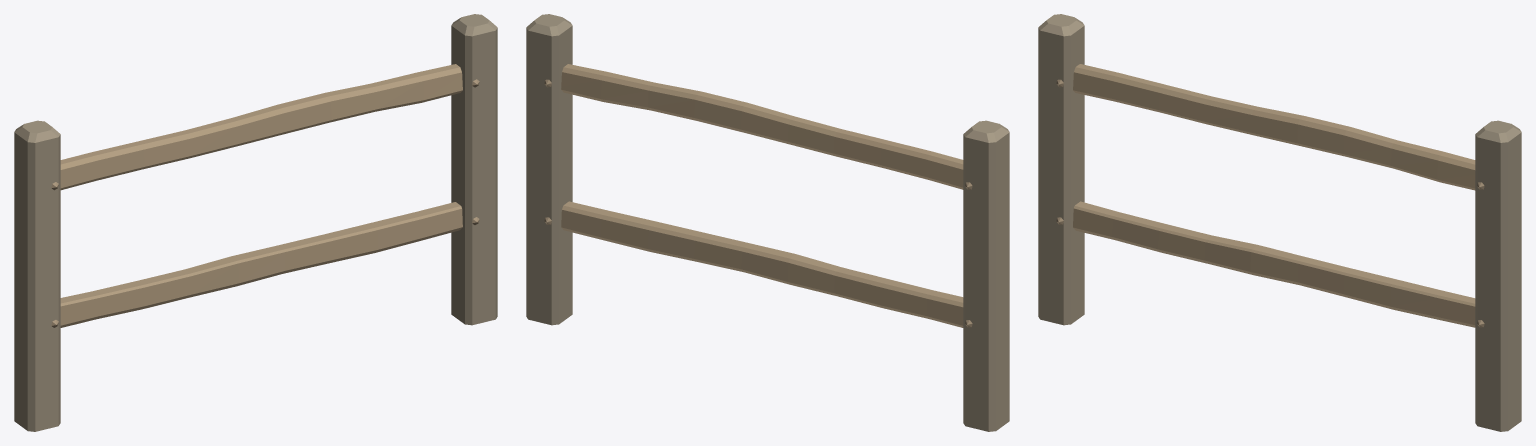
Rendered from fence.glb.
3 views of the same model, side by side, from view 1: azimuth 30°, elevation 25°; view 2: azimuth 150°, elevation 25°; view 3: azimuth 330°, elevation 25° (orthographic).
Visible parts, largest first — view 1: fence.001; view 2: fence.001; view 3: fence.001.
Part boxes in pixels (x1,y1,x2,y2): fence.001: [14, 14, 497, 431]; fence.001: [526, 14, 1009, 431]; fence.001: [1038, 14, 1521, 431].
Bounding box in the file's own units: 2.4 × 1.44 × 0.1968.
